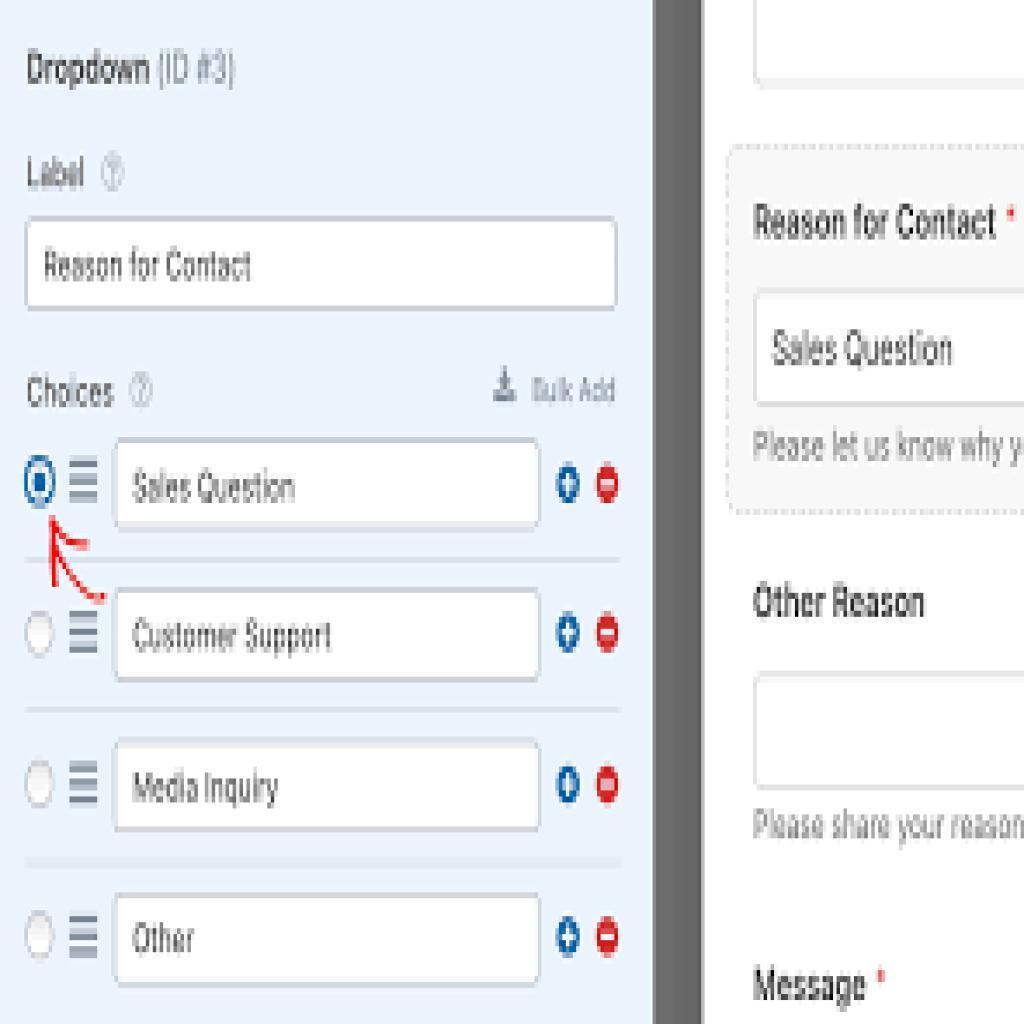icon: (64, 606, 108, 668), (123, 369, 169, 422), (71, 906, 105, 974), (67, 755, 105, 814), (69, 454, 106, 513), (486, 357, 524, 410)
input: (29, 221, 616, 304), (115, 894, 541, 988), (110, 440, 541, 532), (117, 741, 537, 828), (114, 591, 541, 675)
radio: (21, 896, 61, 974), (19, 747, 62, 819), (17, 598, 58, 667), (22, 448, 58, 513)
